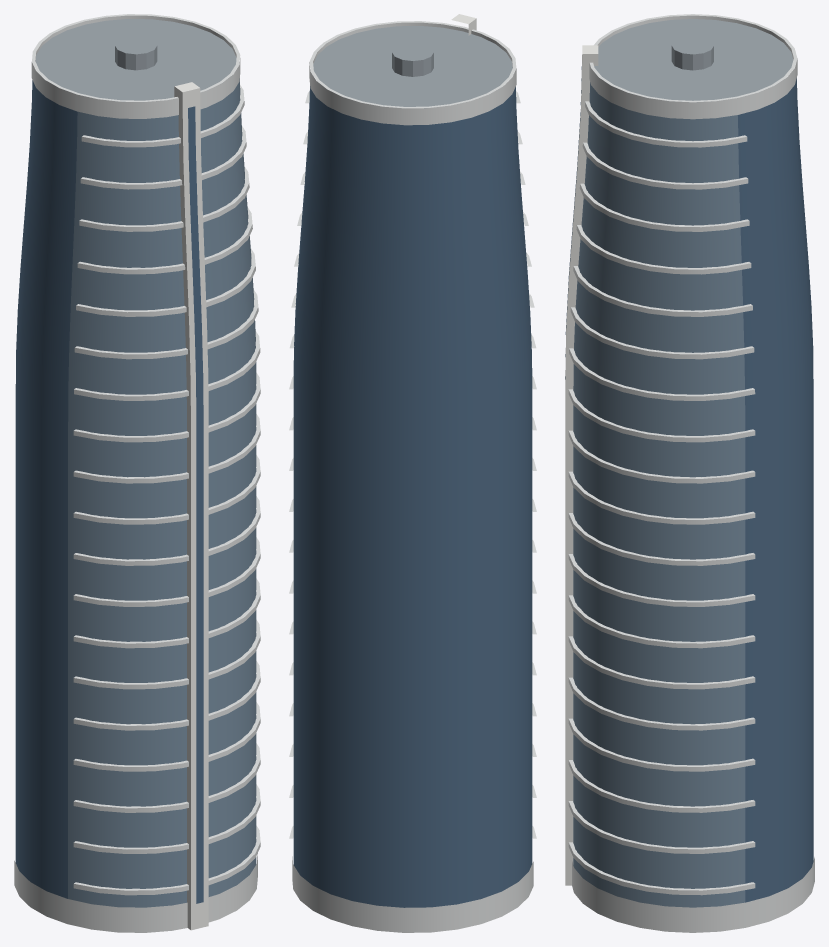
The model's file is mia-porsche-design-tower.glb.
3 renders of one model, left to right at view 1: azimuth 30°, elevation 25°; view 2: azimuth 150°, elevation 25°; view 3: azimuth 270°, elevation 25°, orthographic.
Parts seen in each view (by area): view 1: Porsche Design Tower; view 2: Porsche Design Tower; view 3: Porsche Design Tower.
Boxes of the visible parts, x1=… form: Porsche Design Tower: x1=14, y1=14, x2=260, y2=932; Porsche Design Tower: x1=289, y1=14, x2=536, y2=932; Porsche Design Tower: x1=565, y1=14, x2=814, y2=932.
Size of the model in its own units: 52.93 by 198 by 53.66.
